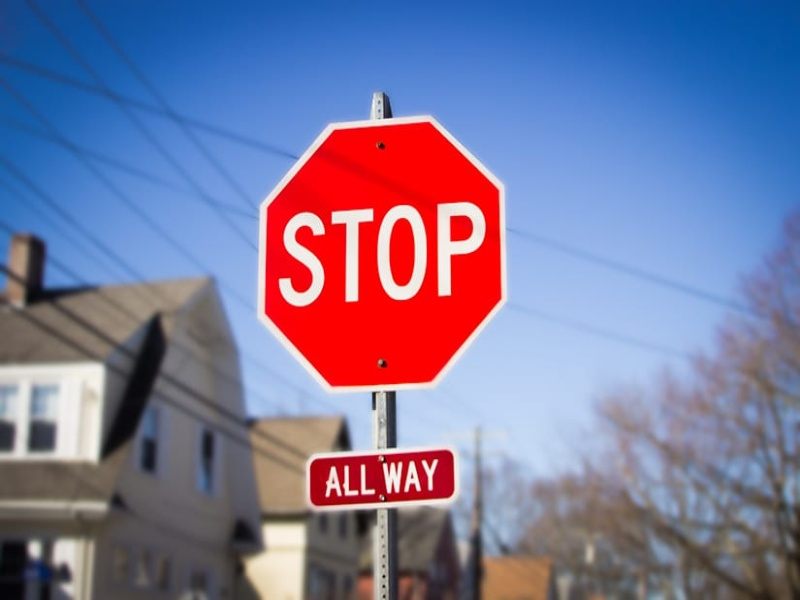stopsign: (238, 101, 528, 418)
